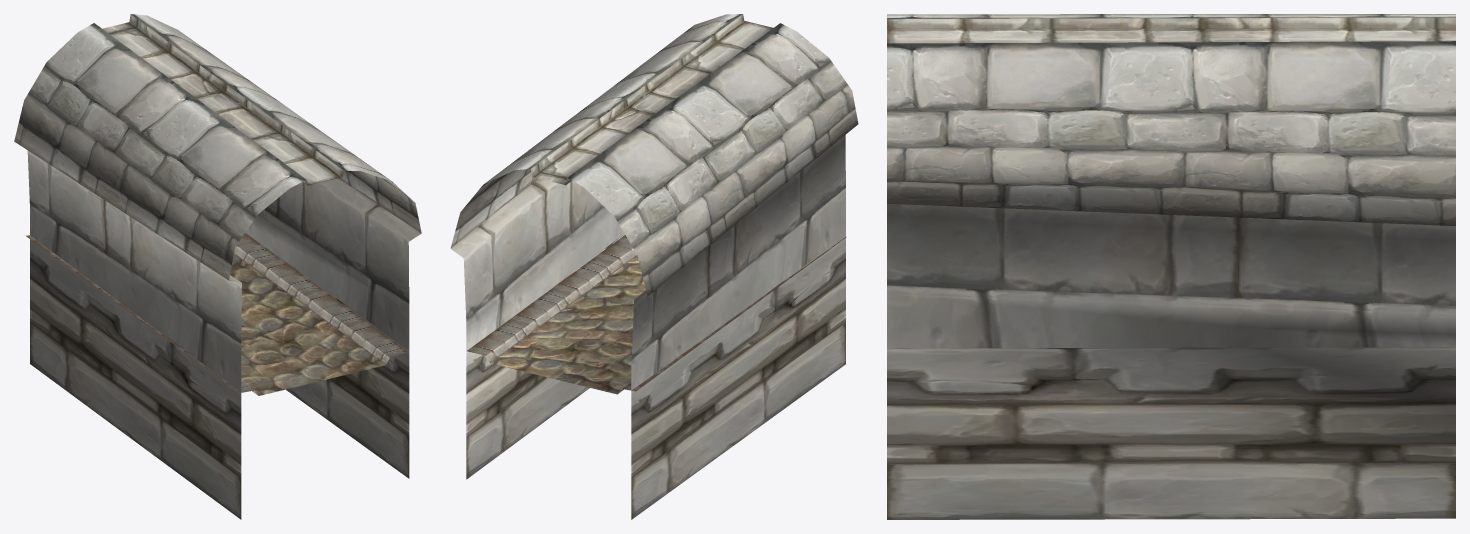
The model's file is stormwind_008.fbx.
The picture shows the model from 3 angles, left to right: view 1: azimuth 30°, elevation 25°; view 2: azimuth 150°, elevation 25°; view 3: azimuth 270°, elevation 25°; orthographic projection. The views are drawn at different scales.
Parts seen in each view (by area): view 1: stormwind_008_11, stormwind_008_4, stormwind_008_46, stormwind_008_5, stormwind_008_12; view 2: stormwind_008_11, stormwind_008_4, stormwind_008_46, stormwind_008_5, stormwind_008_12; view 3: stormwind_008_11, stormwind_008_4, stormwind_008_5.
Boxes of the visible parts, x1,y1,x2,y2 form: stormwind_008_11: (27, 150, 421, 519); stormwind_008_4: (14, 14, 421, 280); stormwind_008_46: (230, 254, 385, 395); stormwind_008_5: (102, 14, 343, 185); stormwind_008_12: (26, 233, 407, 395); stormwind_008_11: (450, 135, 845, 519); stormwind_008_4: (450, 14, 858, 296); stormwind_008_46: (490, 255, 645, 394); stormwind_008_5: (531, 14, 772, 185); stormwind_008_12: (467, 235, 846, 393); stormwind_008_11: (887, 203, 1455, 519); stormwind_008_4: (887, 14, 1455, 225); stormwind_008_5: (887, 17, 1455, 43).
Size of the model in its own units: 10.07 by 15.95 by 18.88.
